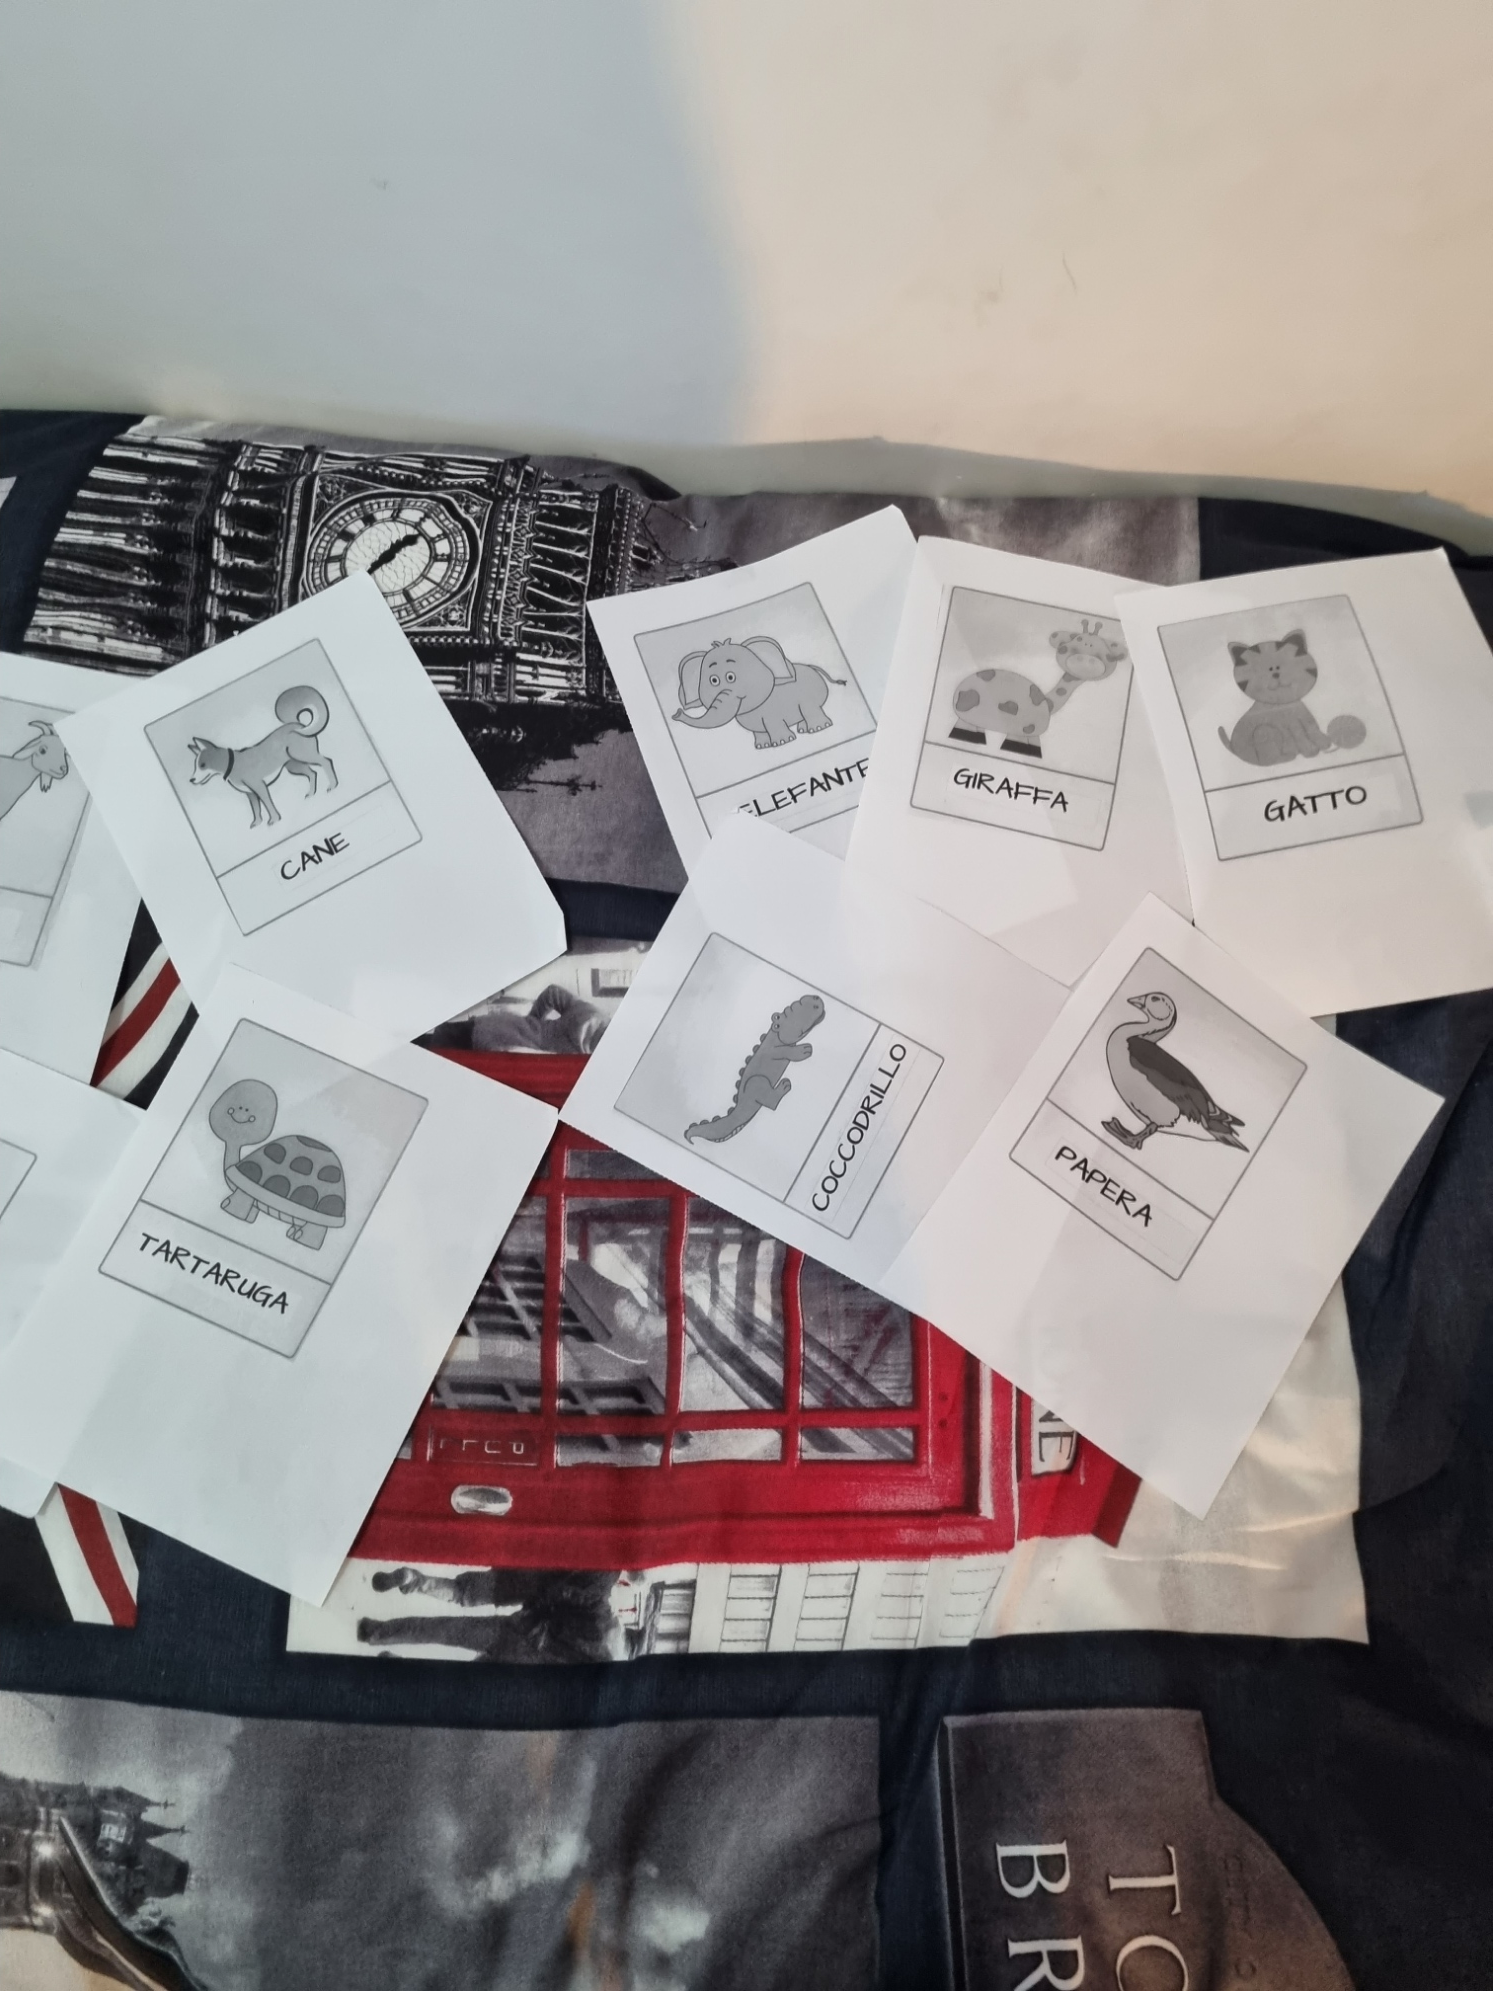cane: (158, 670, 406, 912)
coccodrillo: (673, 962, 917, 1243)
elefante: (646, 604, 896, 833)
gatto: (1206, 612, 1406, 847)
giraffa: (940, 585, 1133, 854)
papera: (1042, 960, 1256, 1277)
tartaruga: (121, 1056, 360, 1358)
